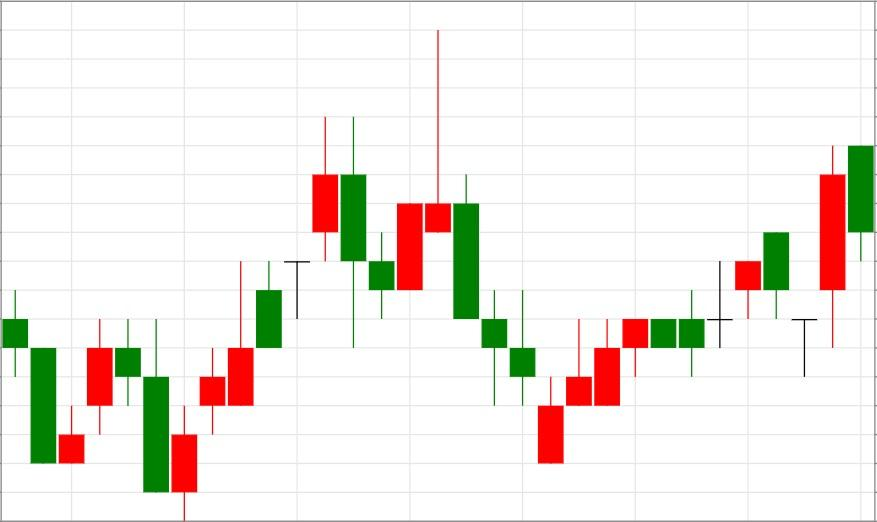shooting_star_fall: (368, 30, 452, 318)
